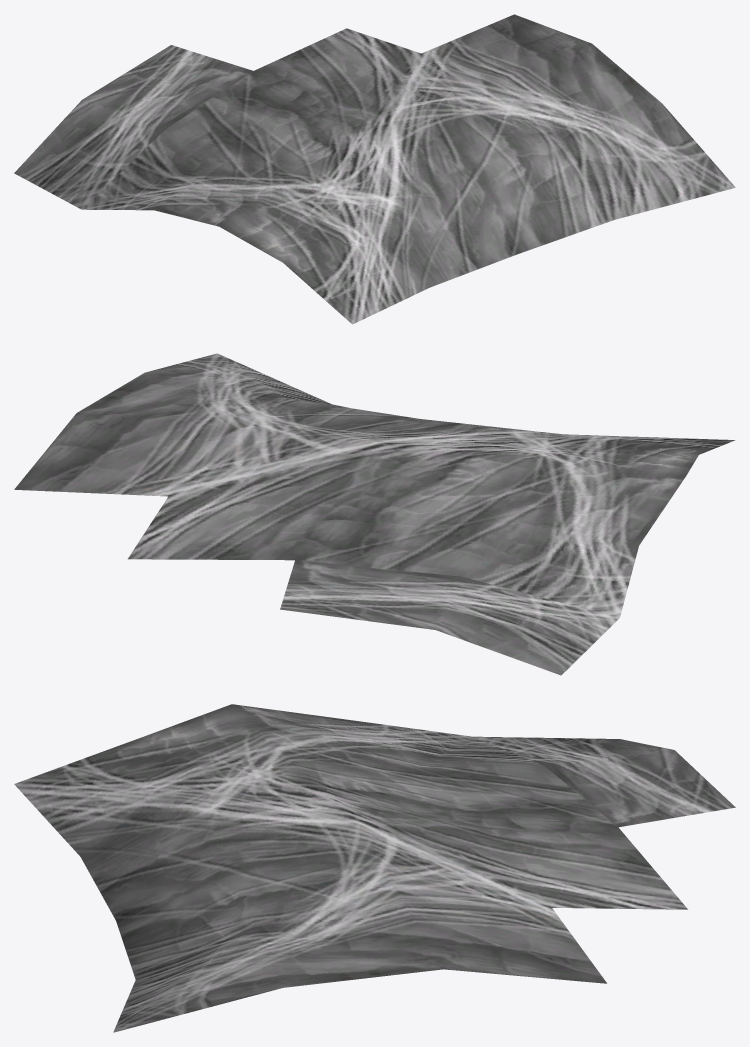
File: SWORDLIGHT20_PS-AREA01_38.fbx
3 renders of one model, top to bottom at view 1: azimuth 30°, elevation 25°; view 2: azimuth 150°, elevation 25°; view 3: azimuth 270°, elevation 25°, orthographic. The views are drawn at different scales.
Parts seen in each view (by area): view 1: SWORDLIGHT20_PS-AREA01_38; view 2: SWORDLIGHT20_PS-AREA01_38; view 3: SWORDLIGHT20_PS-AREA01_38.
Part boxes in pixels (<box>): SWORDLIGHT20_PS-AREA01_38: <box>14,14,735,324</box>; SWORDLIGHT20_PS-AREA01_38: <box>14,353,735,675</box>; SWORDLIGHT20_PS-AREA01_38: <box>14,704,735,1032</box>.
Bounding box in the file's own units: 67379 × 8428 × 66797.
1 material, 1 textured.
